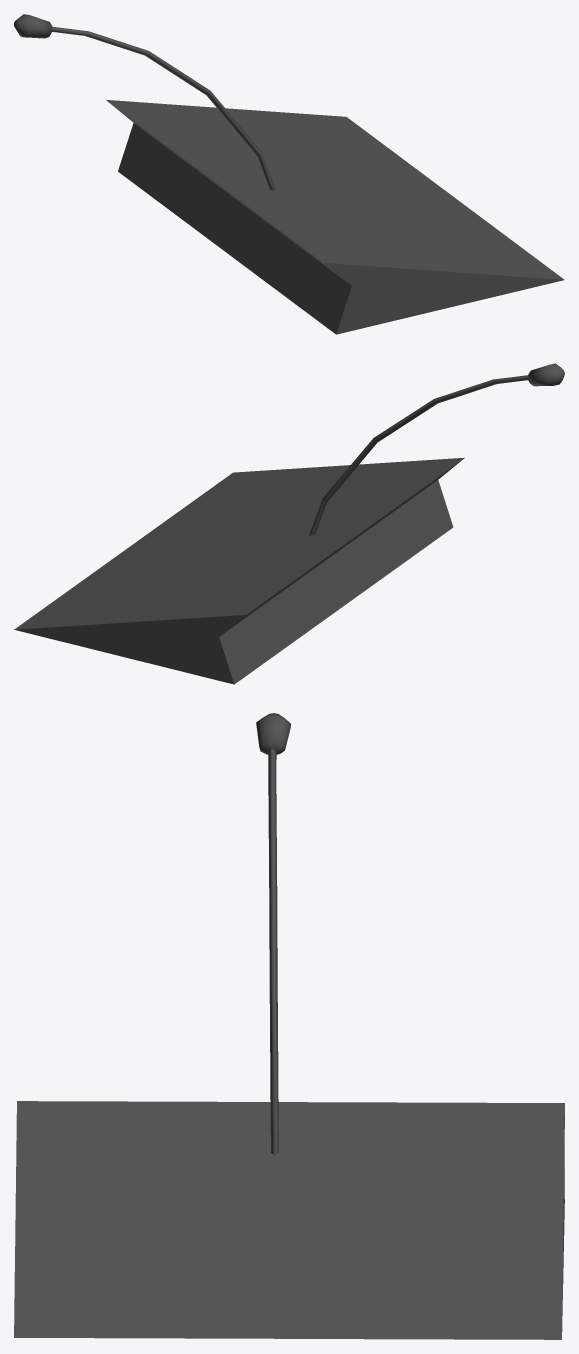
File: AIR0210017.fbx
3 renders of one model, top to bottom at view 1: azimuth 30°, elevation 25°; view 2: azimuth 150°, elevation 25°; view 3: azimuth 270°, elevation 25°, orthographic. The views are drawn at different scales.
Parts seen in each view (by area): view 1: smAIR0210017; view 2: smAIR0210017; view 3: smAIR0210017.
Boxes of the visible parts, x1,y1,x2,y2 form: smAIR0210017: (14,14,564,334); smAIR0210017: (14,363,564,684); smAIR0210017: (14,713,564,1339).
Bounding box in the file's own units: 32.47 × 20.3 × 28.
Materials: 1 (1 with a texture image).
